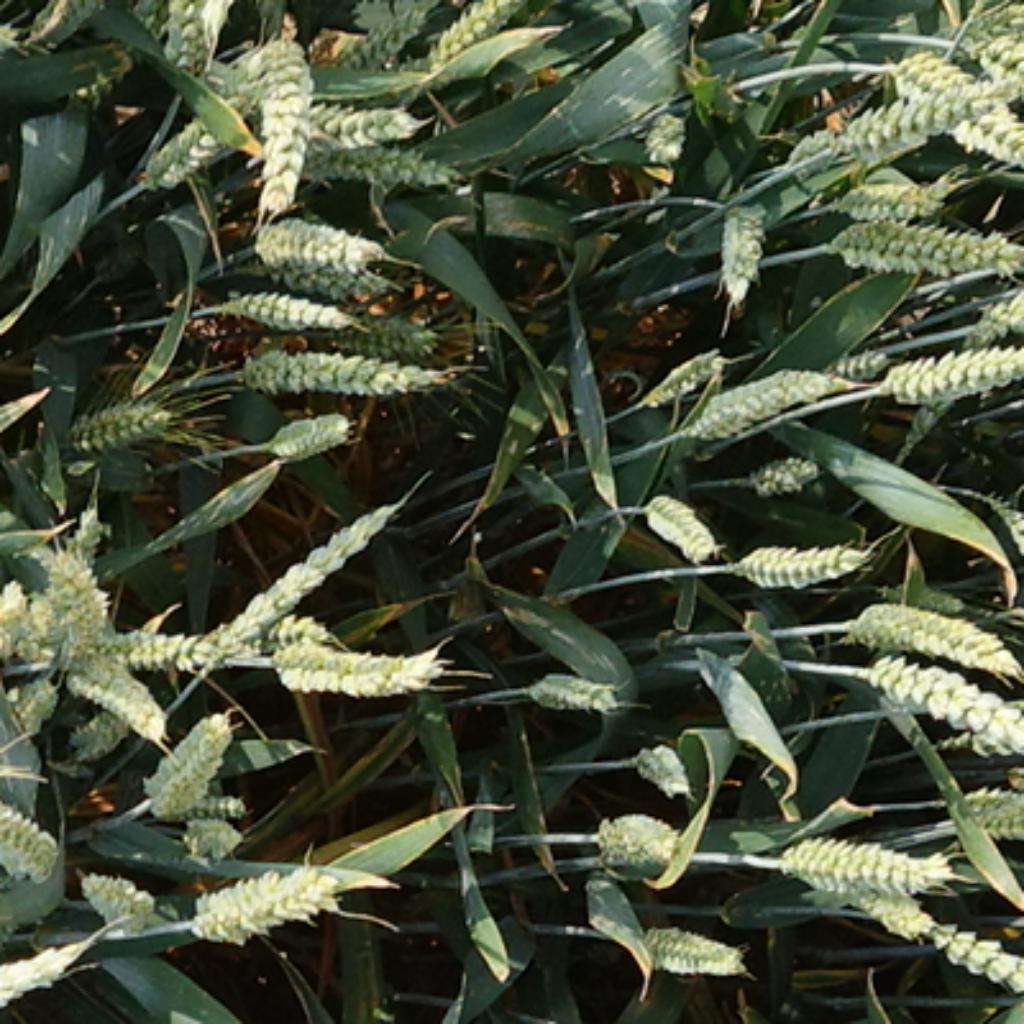0-0: (215, 494, 404, 624), (837, 878, 1024, 998), (138, 33, 273, 194), (826, 66, 1024, 174), (896, 279, 1021, 450), (849, 650, 1021, 750), (227, 23, 320, 194), (258, 619, 448, 696), (773, 821, 949, 903), (184, 847, 348, 934), (819, 207, 1024, 276), (893, 56, 1024, 163), (215, 335, 445, 394), (849, 601, 1024, 675), (678, 355, 837, 432), (140, 701, 238, 811), (870, 332, 1024, 401), (58, 637, 163, 737), (245, 204, 384, 279), (0, 939, 122, 1024), (248, 94, 427, 151), (302, 125, 458, 189), (53, 391, 181, 465), (46, 494, 107, 647), (727, 529, 878, 586), (38, 550, 117, 655), (629, 916, 750, 980), (48, 629, 235, 670), (427, 2, 545, 66), (332, 2, 435, 69), (320, 302, 442, 358), (588, 798, 683, 867), (0, 796, 64, 898), (706, 189, 770, 291), (212, 279, 348, 327), (948, 4, 1024, 89), (634, 481, 716, 552), (637, 337, 729, 399), (74, 857, 158, 924), (832, 184, 952, 230), (522, 670, 627, 719), (261, 409, 355, 463), (161, 2, 227, 76), (624, 727, 696, 788), (0, 573, 51, 655), (742, 440, 821, 491), (174, 814, 243, 872), (878, 573, 965, 616), (947, 709, 1024, 755), (258, 611, 343, 652), (816, 335, 893, 378), (632, 107, 688, 166), (66, 701, 130, 750), (166, 791, 250, 826), (5, 670, 58, 721), (952, 783, 1024, 819), (988, 491, 1024, 560), (954, 808, 1024, 839), (993, 289, 1024, 335)
